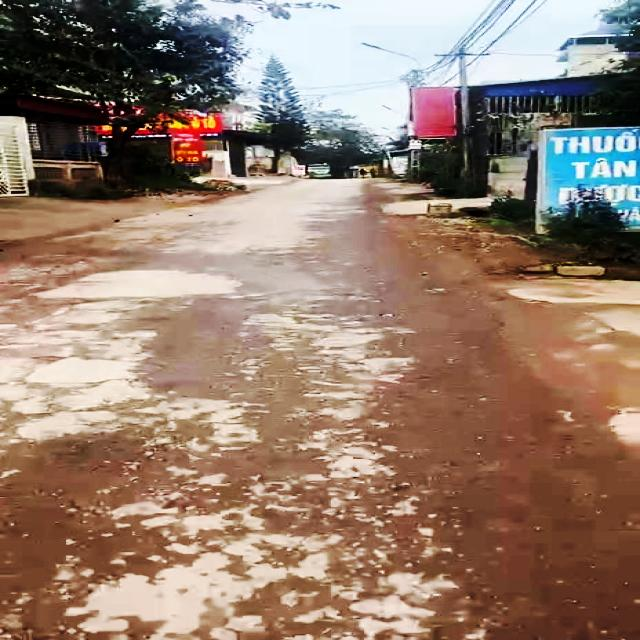pothole: (0, 437, 175, 640)
